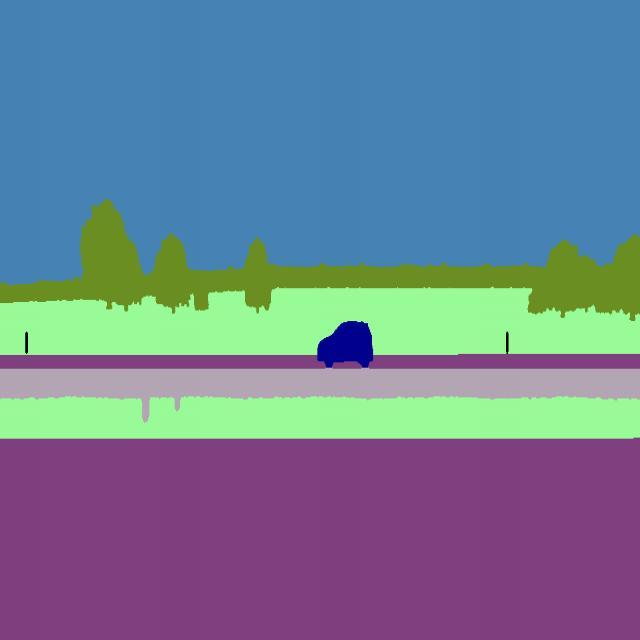safe: (314, 310, 376, 372)
